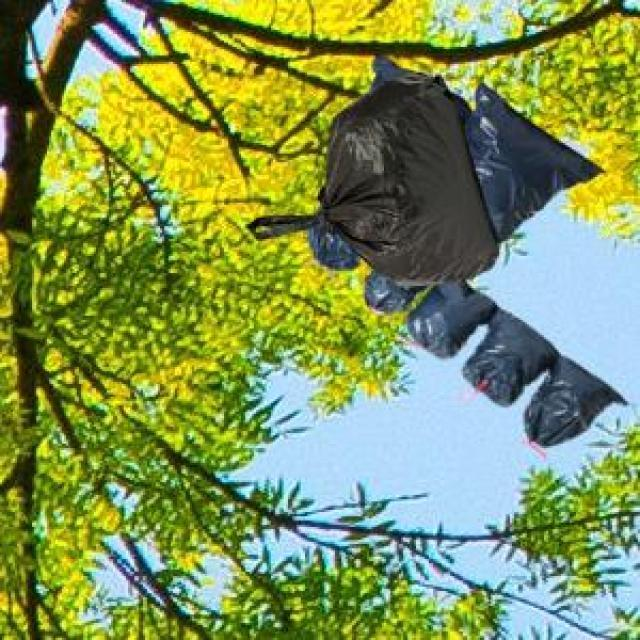waste: (249, 56, 625, 446)
